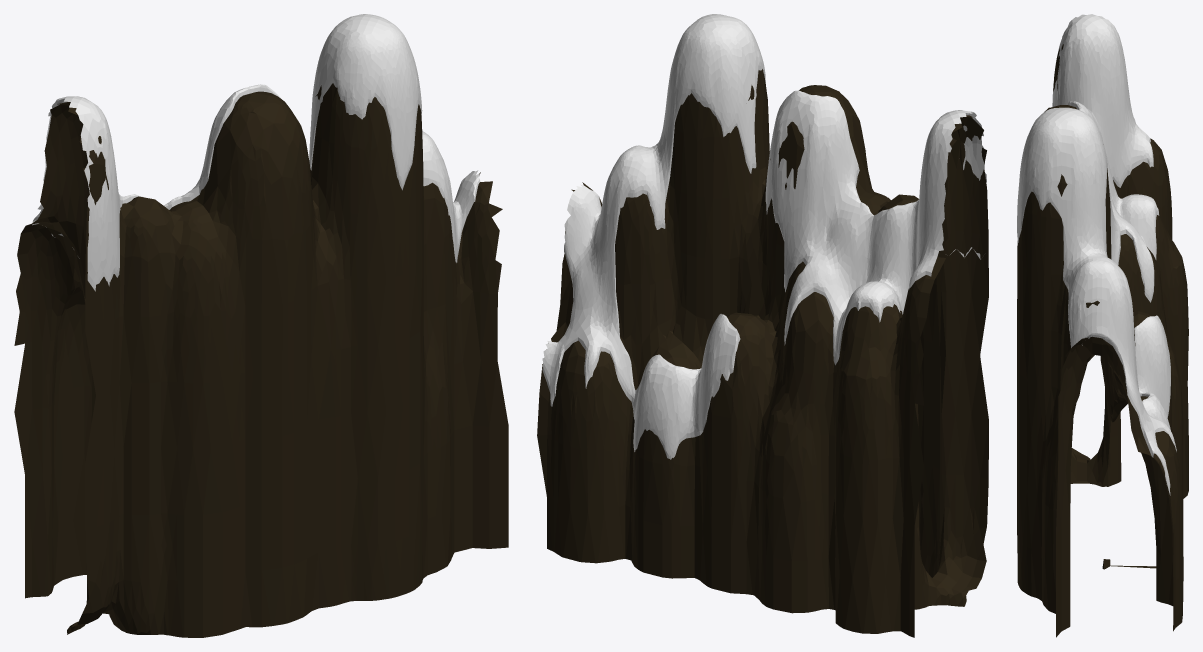
File: Mtn_Wall_E2.fbx
3 renders of one model, left to right at view 1: azimuth 30°, elevation 25°; view 2: azimuth 150°, elevation 25°; view 3: azimuth 270°, elevation 25°, orthographic. The views are drawn at different scales.
Visible parts, largest first — view 1: Mtn_Wall_E2; view 2: Mtn_Wall_E2; view 3: Mtn_Wall_E2.
Boxes of the visible parts, <box> form: Mtn_Wall_E2: <box>14,14,508,637</box>; Mtn_Wall_E2: <box>537,14,988,637</box>; Mtn_Wall_E2: <box>1017,14,1188,637</box>.
Size of the model in its own units: 22297 by 27950 by 9263.
